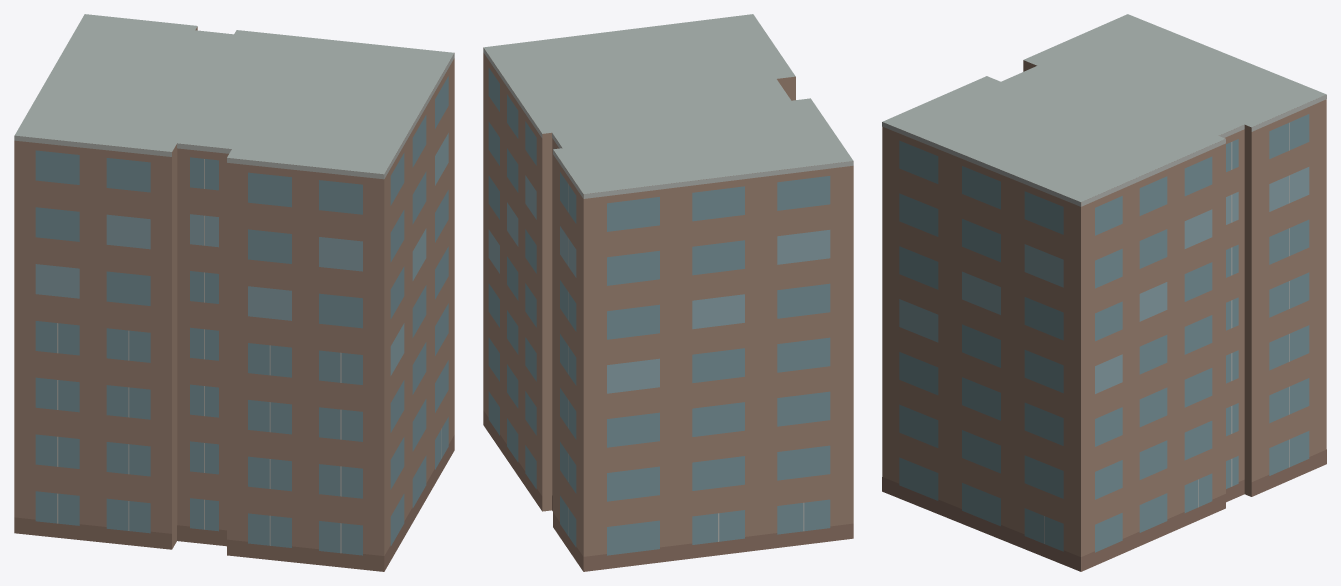
The model's file is survey-upis-32914313.glb.
The picture shows the model from 3 angles, left to right: view 1: azimuth 30°, elevation 25°; view 2: azimuth 150°, elevation 25°; view 3: azimuth 270°, elevation 25°; orthographic projection. The views are drawn at different scales.
Visible parts, largest first — view 1: survey-upis-32914313.tmp; view 2: survey-upis-32914313.tmp; view 3: survey-upis-32914313.tmp.
Boxes of the visible parts, x1,y1,x2,y2 form: survey-upis-32914313.tmp: [14, 14, 454, 571]; survey-upis-32914313.tmp: [483, 14, 853, 571]; survey-upis-32914313.tmp: [882, 14, 1326, 571].
Bounding box in the file's own units: 21.08 × 19.3 × 21.05.
